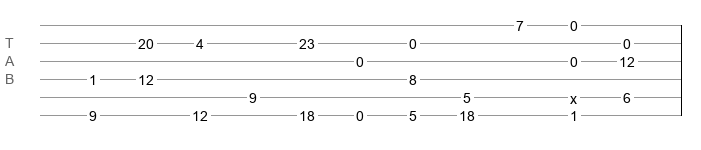0: (356, 54, 364, 64), (356, 108, 364, 118), (409, 36, 417, 46), (570, 18, 578, 28), (570, 54, 578, 64), (623, 36, 631, 46)
1: (89, 72, 97, 82), (570, 108, 578, 118)
12: (138, 72, 154, 82), (192, 108, 208, 118), (619, 54, 635, 64)
18: (299, 108, 315, 118), (459, 108, 475, 118)
20: (138, 36, 154, 46)
23: (299, 36, 315, 46)
4: (196, 36, 204, 46)
5: (409, 108, 417, 118), (463, 90, 471, 100)
6: (623, 90, 631, 100)
7: (516, 18, 524, 28)
8: (409, 72, 417, 82)
9: (89, 108, 97, 118), (249, 90, 257, 100)
x: (570, 91, 577, 99)
